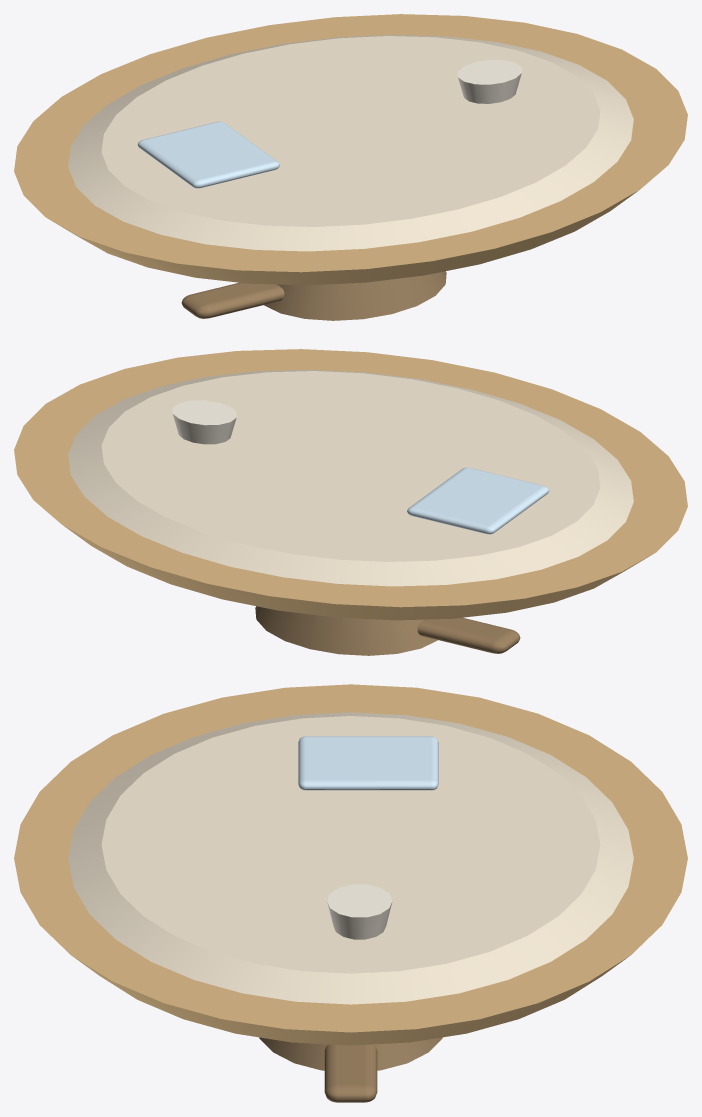
The model's file is coffee-table.glb.
3 views of the same model, one above another, from view 1: azimuth 30°, elevation 25°; view 2: azimuth 150°, elevation 25°; view 3: azimuth 270°, elevation 25° (orthographic). The views are drawn at different scales.
Visible parts, largest first — view 1: coffee-table; view 2: coffee-table; view 3: coffee-table.
Part boxes in pixels (<box>): coffee-table: <box>14,14,687,320</box>; coffee-table: <box>14,349,687,655</box>; coffee-table: <box>14,684,687,1102</box>.
Size of the model in its own units: 1.65 by 0.45 by 1.35.
